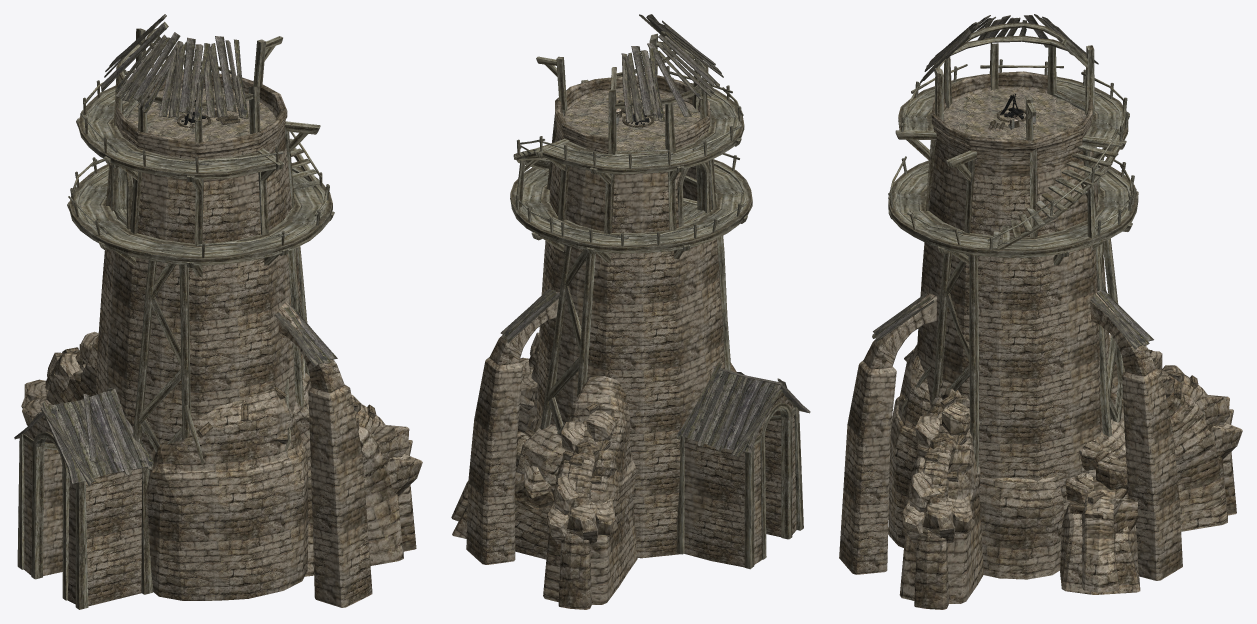
Rendered from TW2_1_HUT_03_1-transformed.glb.
3 renders of one model, left to right at view 1: azimuth 30°, elevation 25°; view 2: azimuth 150°, elevation 25°; view 3: azimuth 270°, elevation 25°, orthographic. The views are drawn at different scales.
Parts seen in each view (by area): view 1: default; view 2: default; view 3: default.
Boxes of the visible parts, x1,y1,x2,y2 form: default: (14,14,422,609); default: (451,14,810,609); default: (839,14,1242,609).
Bounding box in the file's own units: 20.83 × 31.63 × 22.76.
Materials: 9 (9 with a texture image).
